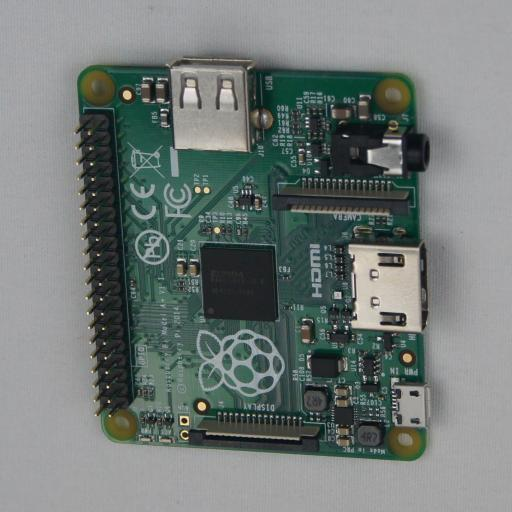Raspberry Pi A-: (76, 53, 431, 461)
